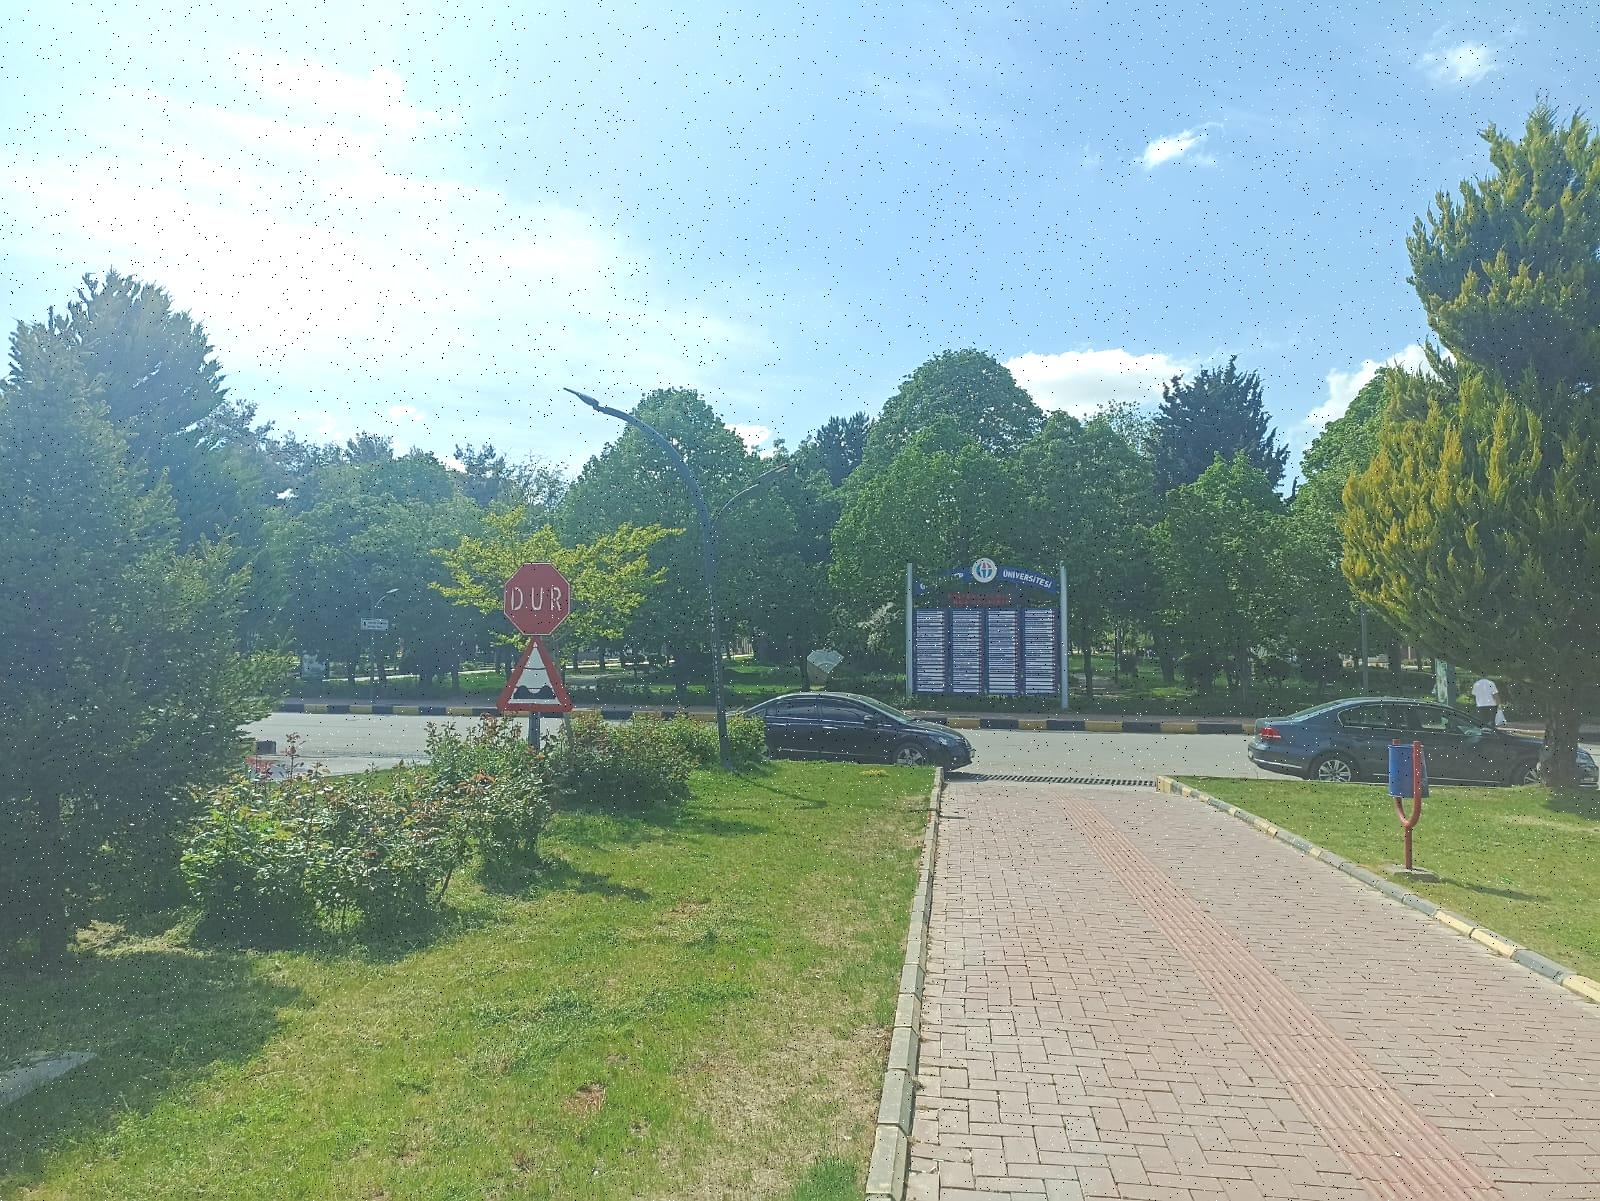stop: (503, 564, 569, 633)
